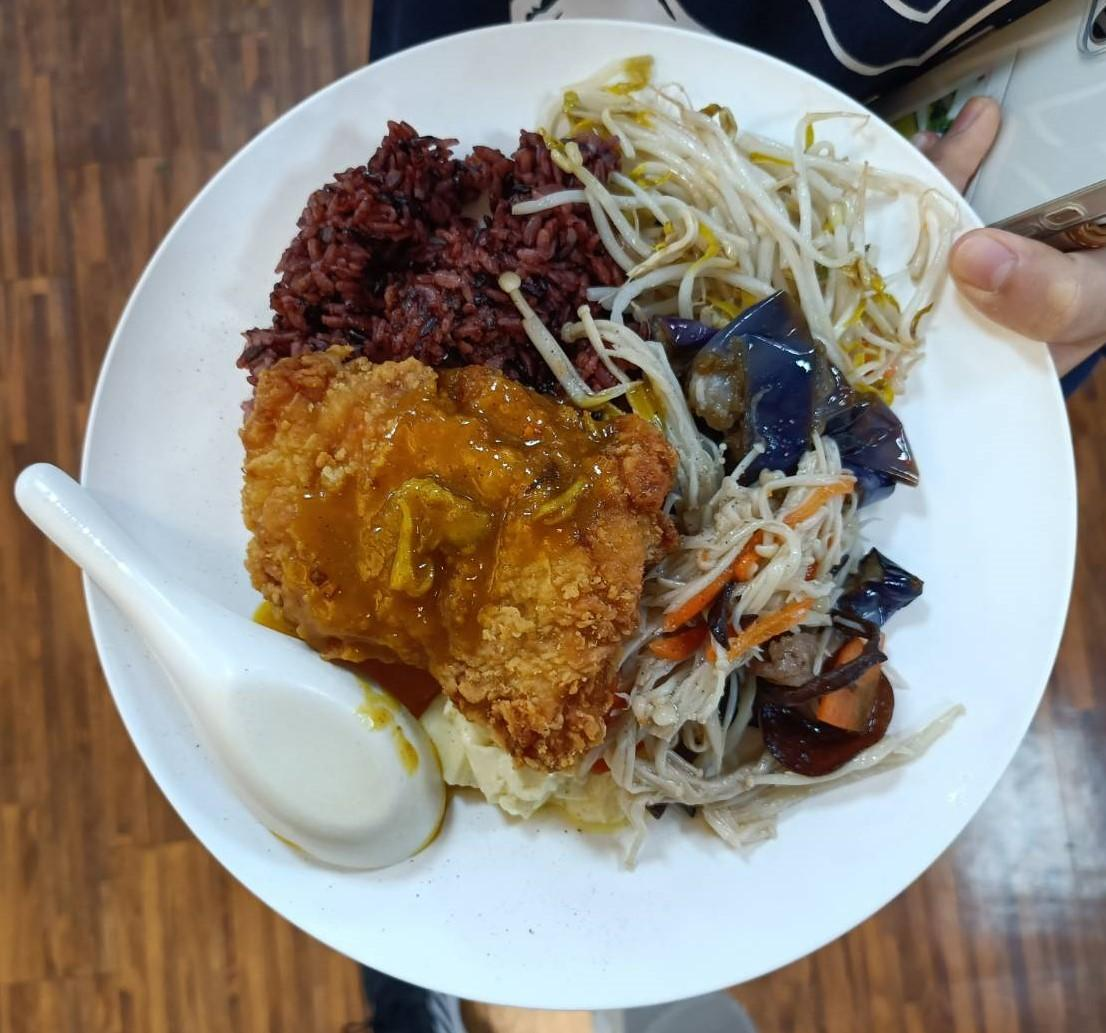big fried chicken leg: (40, 6, 1090, 1018)
braised fish: (241, 120, 666, 392)
braised fish fillet: (575, 68, 934, 398), (631, 436, 906, 840), (648, 301, 932, 496)
braised pork: (220, 340, 674, 734)
